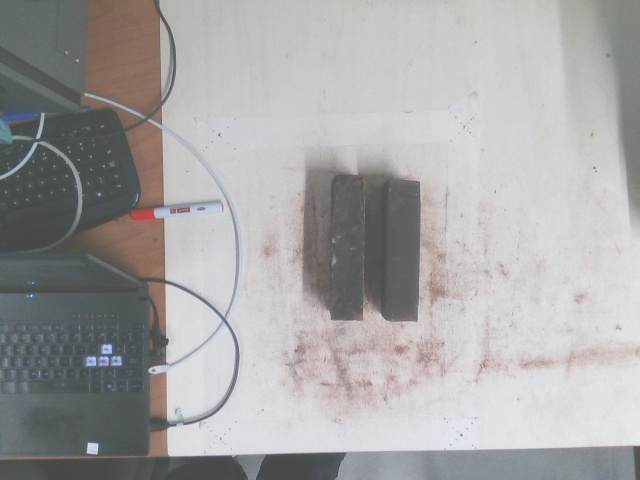brick-side: (329, 178, 366, 320), (387, 182, 419, 318)
